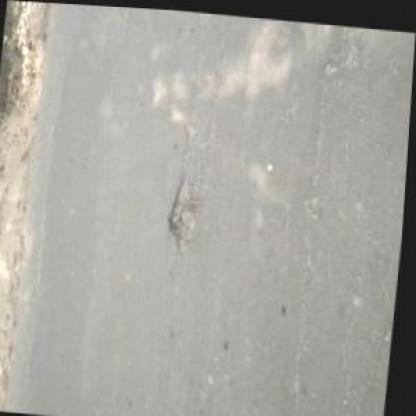pothole: (166, 169, 206, 251)
